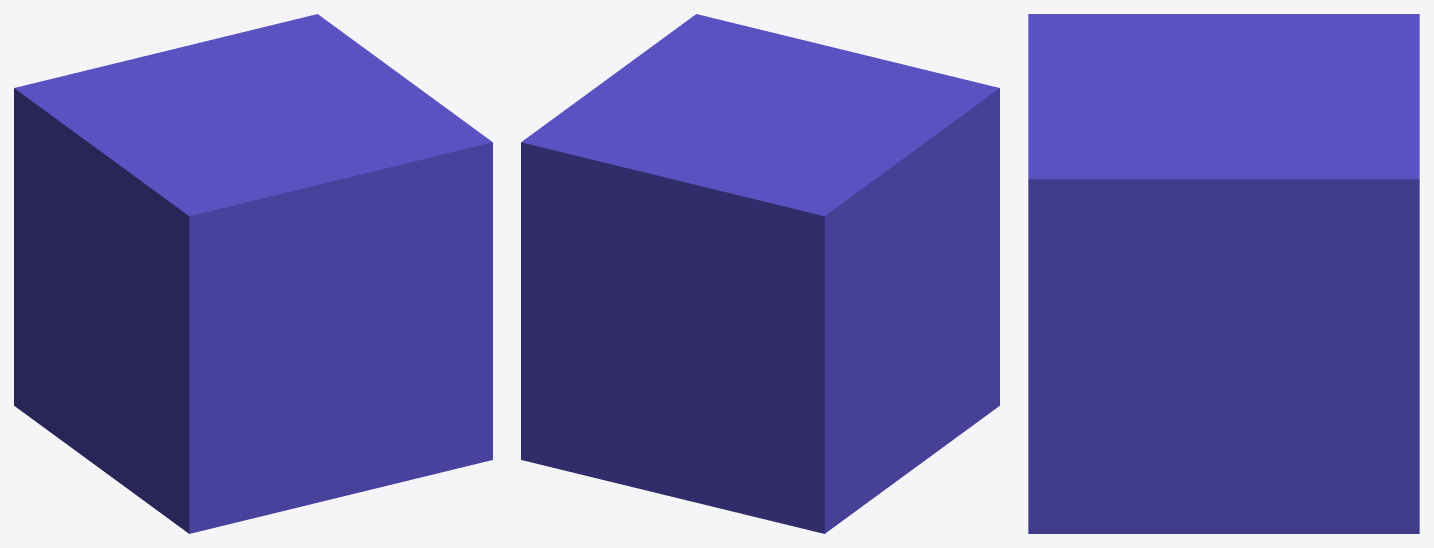
The model's file is LevelDecorativeOuter.glb.
3 renders of one model, left to right at view 1: azimuth 30°, elevation 25°; view 2: azimuth 150°, elevation 25°; view 3: azimuth 270°, elevation 25°, orthographic. The views are drawn at different scales.
Visible parts, largest first — view 1: block; view 2: block; view 3: block.
Part boxes in pixels (<box>): block: <box>14,14,492,533</box>; block: <box>521,14,999,533</box>; block: <box>1028,14,1419,533</box>.
Size of the model in its own units: 1 by 1 by 1.
